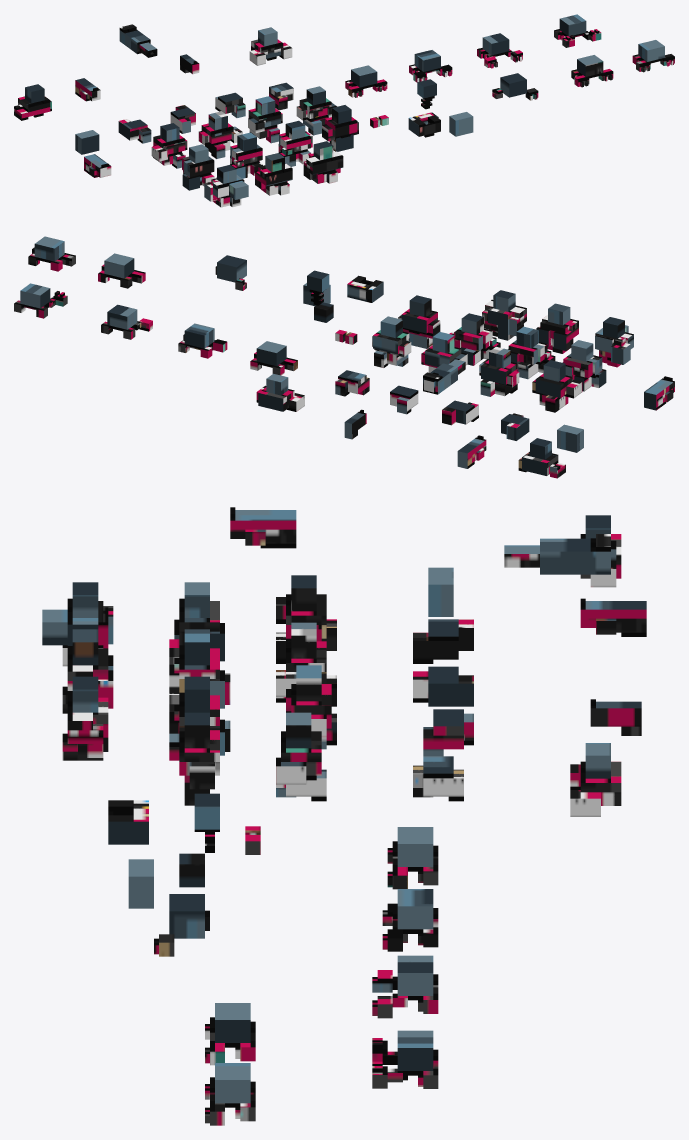
File: genricdood.dae
3 renders of one model, top to bottom at view 1: azimuth 30°, elevation 25°; view 2: azimuth 150°, elevation 25°; view 3: azimuth 270°, elevation 25°, orthographic. The views are drawn at different scales.
Parts seen in each view (by area): view 1: slide_arm_impact, kneel_fist_akimbo, left_stride, rest_still, slide_ready, right_mid_stride, left_mid_stride, right_stride, kneel_fist_max, kneel_fist_min, kneel_fist_mid, pistols (+20 smaller); view 2: right_stride, left_stride, kneel_fist_akimbo, left_mid_stride, kneel_fist_mid, kneel_fist_max, rest_still, slide_ready, slide_arm_impact, kneel_fist_min, pistols, onearmgun (+19 smaller); view 3: object 17, left_mid_stride, kneel_fist_akimbo, slide_arm_impact, crawler_reach, crawler_mid_pull, pistols, rest_still, right_stride, kneel_fist_mid, crawler_mid, crawler_rest (+21 smaller).
Boxes of the visible parts, bbox=[...] form: slide_arm_impact: bbox=[204, 165, 248, 207]; kneel_fist_akimbo: bbox=[303, 141, 343, 183]; left_stride: bbox=[198, 111, 242, 158]; rest_still: bbox=[322, 105, 358, 151]; slide_ready: bbox=[255, 153, 292, 195]; right_mid_stride: bbox=[248, 96, 282, 143]; left_mid_stride: bbox=[296, 86, 336, 135]; right_stride: bbox=[151, 123, 187, 168]; kneel_fist_max: bbox=[278, 120, 312, 166]; kneel_fist_min: bbox=[182, 144, 214, 190]; kneel_fist_mid: bbox=[230, 132, 262, 178]; pistols: bbox=[249, 27, 292, 65]; right_stride: bbox=[532, 360, 582, 412]; left_stride: bbox=[479, 346, 519, 396]; kneel_fist_akimbo: bbox=[482, 290, 526, 340]; left_mid_stride: bbox=[372, 316, 411, 367]; kneel_fist_mid: bbox=[508, 326, 555, 379]; kneel_fist_max: bbox=[449, 313, 500, 365]; rest_still: bbox=[398, 295, 440, 348]; slide_ready: bbox=[536, 303, 578, 353]; slide_arm_impact: bbox=[595, 317, 633, 367]; kneel_fist_min: bbox=[562, 340, 606, 391]; pistols: bbox=[256, 373, 304, 411]; onearmgun: bbox=[518, 438, 565, 478]; object 17: bbox=[504, 534, 616, 574]; left_mid_stride: bbox=[276, 712, 326, 801]; kneel_fist_akimbo: bbox=[62, 676, 108, 760]; slide_arm_impact: bbox=[42, 582, 113, 666]; crawler_reach: bbox=[372, 1030, 438, 1088]; crawler_mid_pull: bbox=[372, 955, 438, 1018]; pistols: bbox=[570, 743, 621, 816]; rest_still: bbox=[179, 712, 219, 805]; right_stride: bbox=[276, 575, 336, 663]; kneel_fist_mid: bbox=[169, 629, 230, 711]; crawler_mid: bbox=[382, 889, 438, 951]; crawler_rest: bbox=[387, 827, 438, 889].
Bounding box in the file's own units: 260 × 32 × 119.
1 material, 1 textured.
